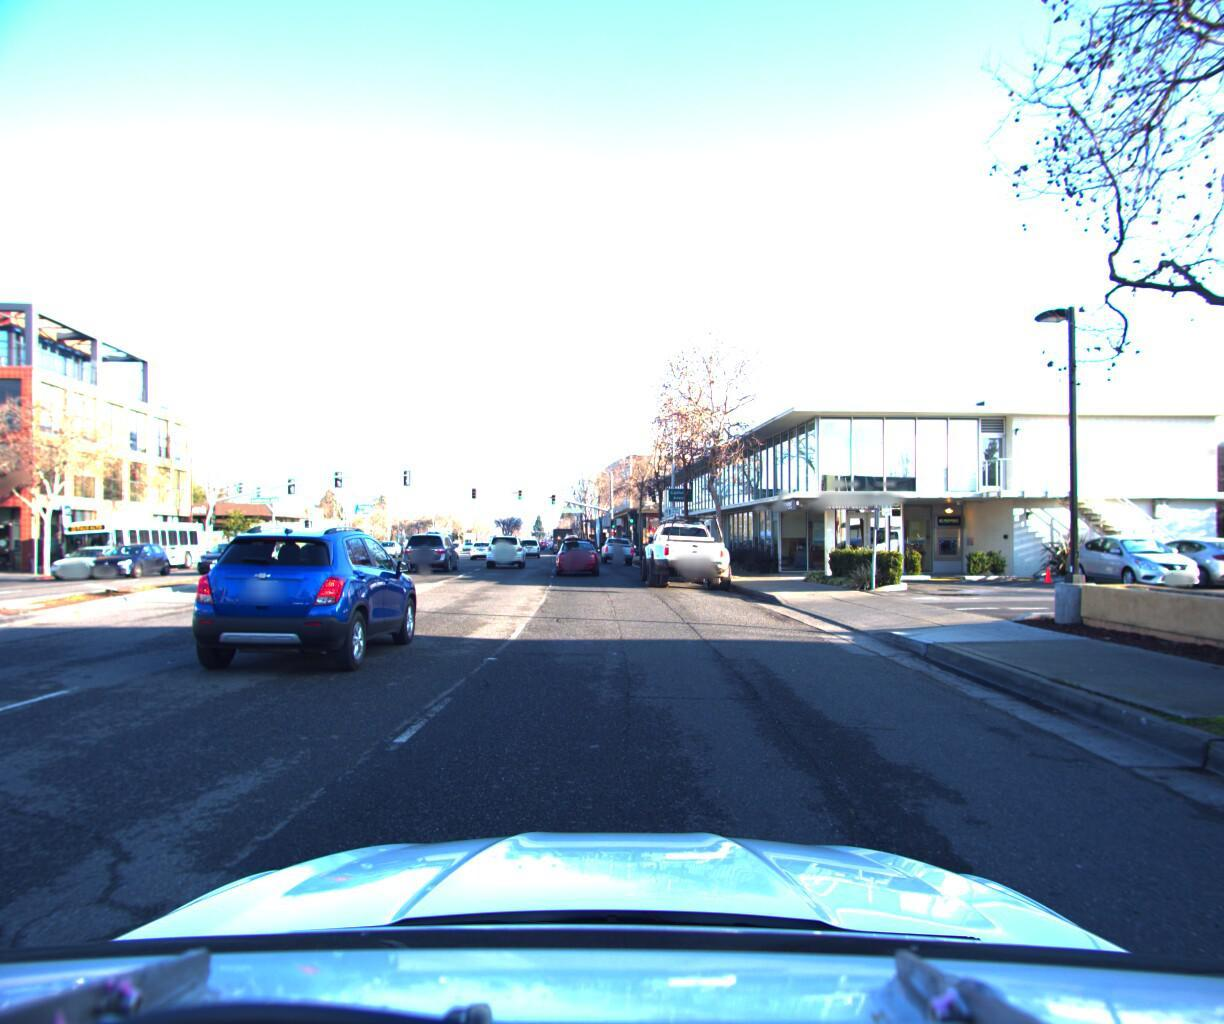bus: (58, 517, 216, 567)
car: (177, 522, 435, 679), (632, 504, 734, 587), (78, 535, 175, 576), (45, 540, 140, 578), (191, 537, 273, 576), (397, 526, 463, 573), (551, 525, 601, 574), (483, 529, 526, 568), (596, 528, 637, 556), (466, 532, 494, 554), (517, 532, 542, 551)
